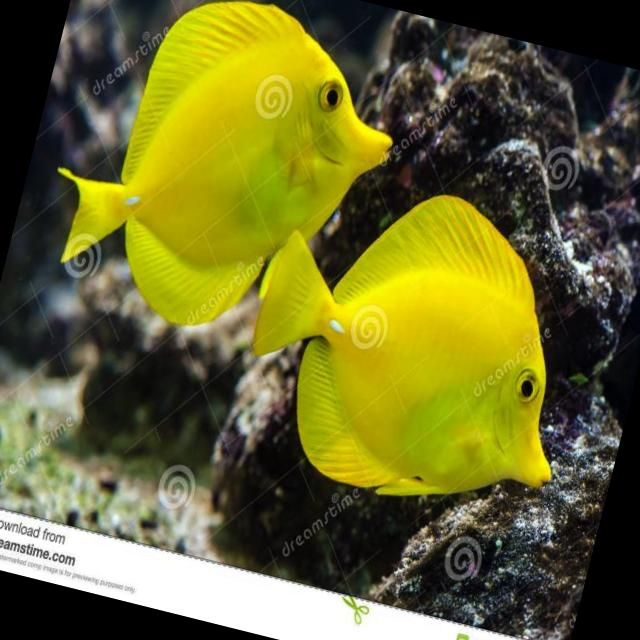TangFish: (227, 150, 614, 537), (28, 0, 423, 372)
